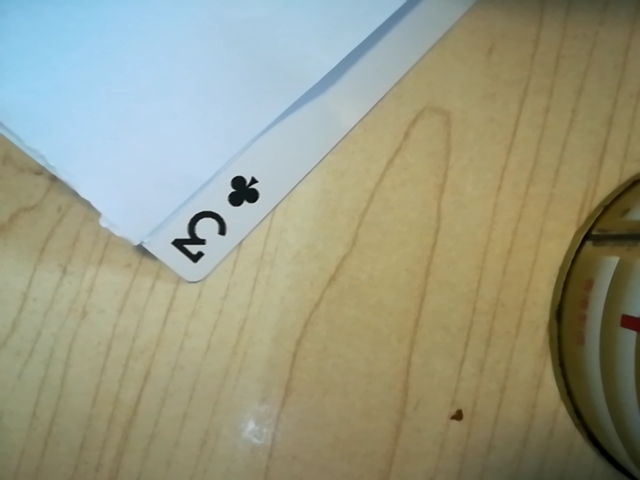mh 3: (162, 170, 268, 269)
